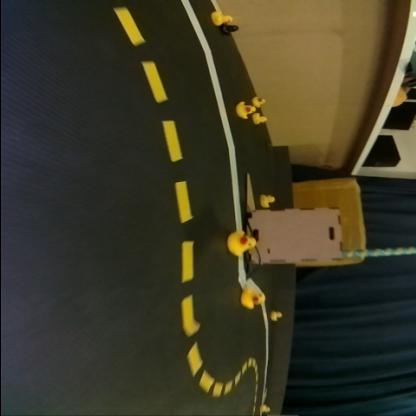Duckie: (227, 229, 254, 255), (240, 287, 265, 308), (235, 102, 253, 118), (213, 10, 232, 24), (260, 194, 274, 206), (254, 114, 268, 124), (252, 96, 266, 104), (272, 310, 282, 320), (260, 404, 270, 412)
